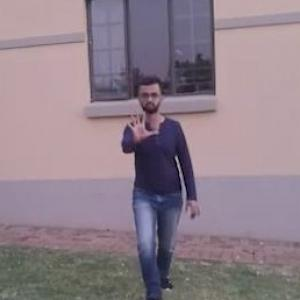follow_hand: (120, 103, 159, 146)
